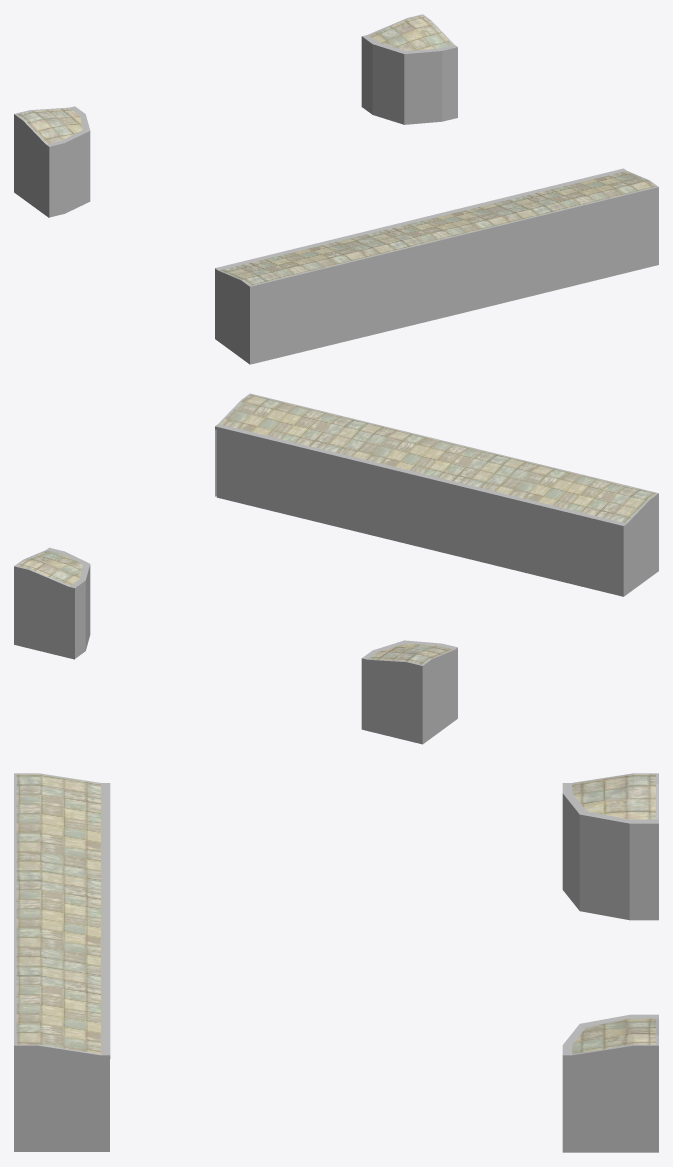
The model's file is road_02_t_hedge.fbx.
3 renders of one model, top to bottom at view 1: azimuth 30°, elevation 25°; view 2: azimuth 150°, elevation 25°; view 3: azimuth 270°, elevation 25°, orthographic. The views are drawn at different scales.
Parts seen in each view (by area): view 1: road_02_t_hedge; view 2: road_02_t_hedge; view 3: road_02_t_hedge.
Part boxes in pixels (x1,y1,x2,y2): road_02_t_hedge: (14, 14, 658, 364); road_02_t_hedge: (14, 393, 658, 744); road_02_t_hedge: (14, 773, 658, 1152).
Size of the model in its own units: 12 by 2.2 by 12.
